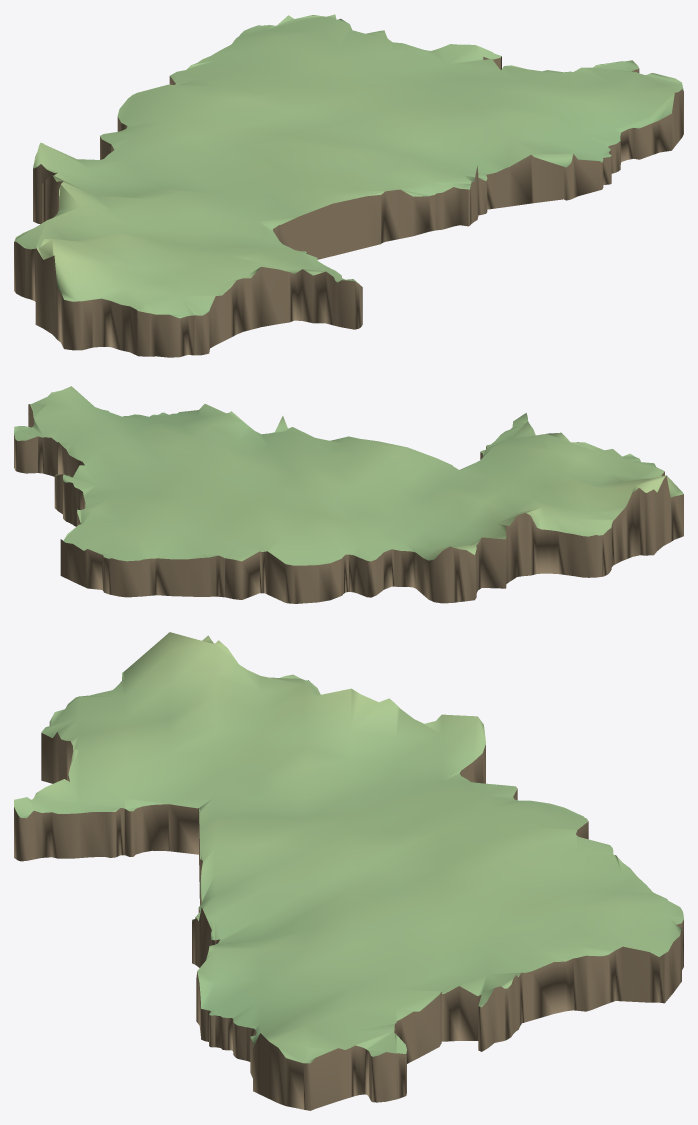
Rendered from BFA.glb.
3 renders of one model, top to bottom at view 1: azimuth 30°, elevation 25°; view 2: azimuth 150°, elevation 25°; view 3: azimuth 270°, elevation 25°, orthographic. The views are drawn at different scales.
Parts seen in each view (by area): view 1: BFA; view 2: BFA; view 3: BFA.
Boxes of the visible parts, x1,y1,x2,y2 form: BFA: [14, 14, 683, 357]; BFA: [14, 386, 683, 603]; BFA: [14, 632, 683, 1110].
Size of the model in its own units: 1.7 by 0.1909 by 1.24.
